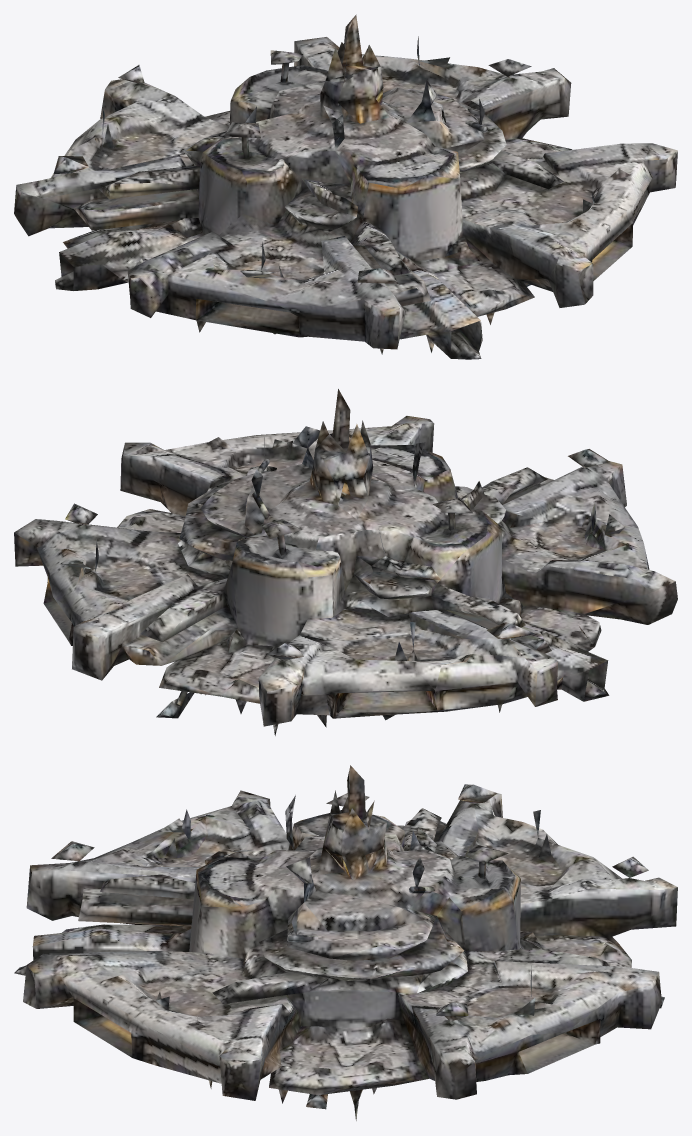
Rendered from st3d_beta7_pathfinder_lod2.glb.
3 views of the same model, one above another, from view 1: azimuth 30°, elevation 25°; view 2: azimuth 150°, elevation 25°; view 3: azimuth 270°, elevation 25° (orthographic). The views are drawn at different scales.
Visible parts, largest first — view 1: HOMELANCER_Station3D_Beta7-PathfinderDepot_v1; view 2: HOMELANCER_Station3D_Beta7-PathfinderDepot_v1; view 3: HOMELANCER_Station3D_Beta7-PathfinderDepot_v1.
Part boxes in pixels (x1=…): HOMELANCER_Station3D_Beta7-PathfinderDepot_v1: x1=14, y1=14, x2=677, y2=359; HOMELANCER_Station3D_Beta7-PathfinderDepot_v1: x1=14, y1=389, x2=677, y2=735; HOMELANCER_Station3D_Beta7-PathfinderDepot_v1: x1=14, y1=765, x2=677, y2=1120.
Size of the model in its own units: 0.962 by 0.5261 by 0.9695.
1 material, 1 textured.
